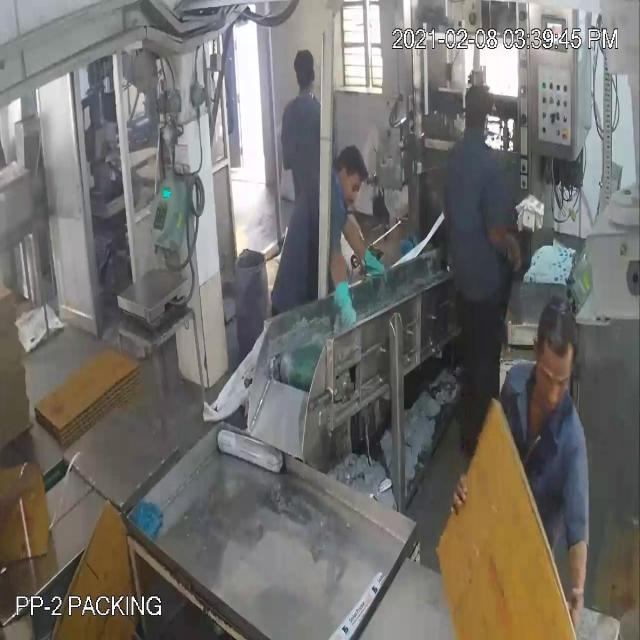Gloves: (36, 94, 575, 572)
